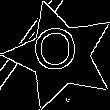O_S: (38, 30, 83, 81)
